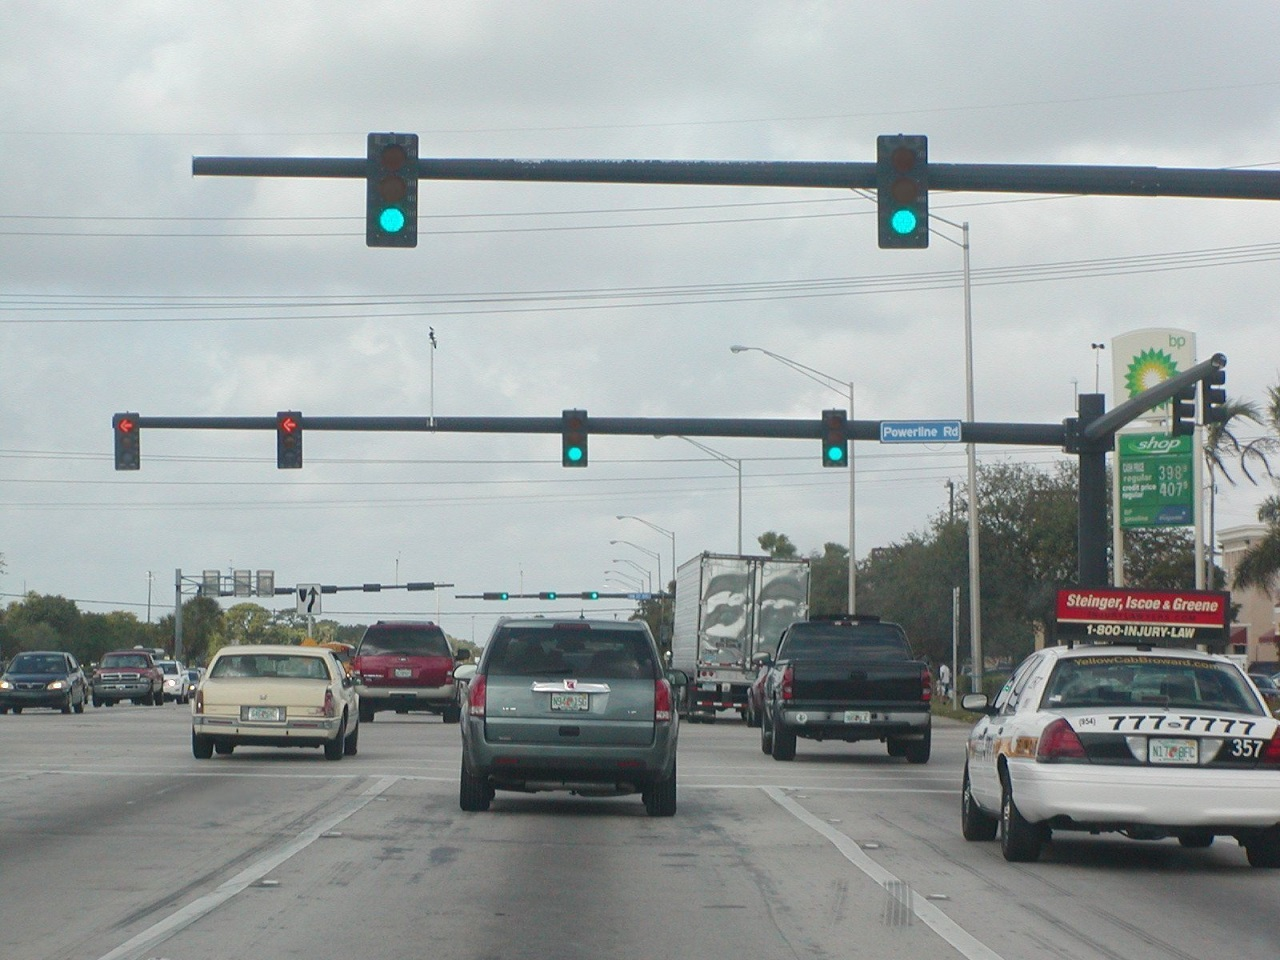traffic_light: (362, 130, 419, 250), (875, 134, 931, 251), (111, 411, 143, 473), (819, 408, 850, 470), (560, 408, 590, 470), (275, 410, 304, 471)
